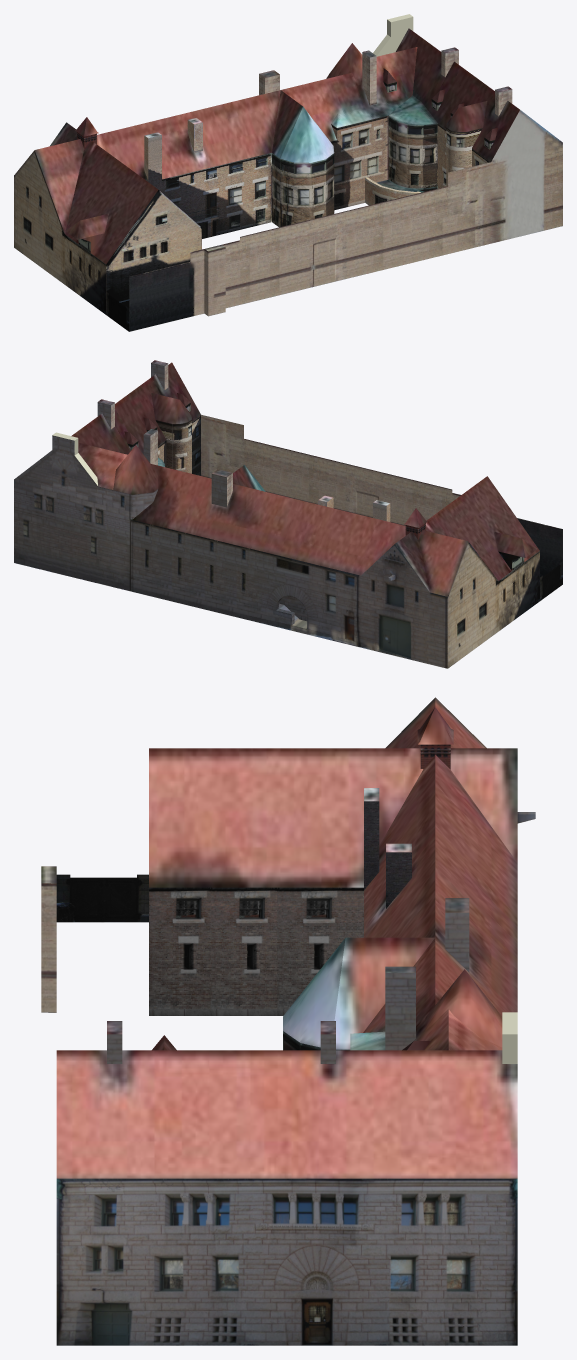
File: glessnerhouse.obj
The picture shows the model from 3 angles, top to bottom: view 1: azimuth 30°, elevation 25°; view 2: azimuth 150°, elevation 25°; view 3: azimuth 270°, elevation 25°; orthographic projection. The views are drawn at different scales.
Visible parts, largest first — view 1: Model; view 2: Model; view 3: Model.
Part boxes in pixels (x1,y1,x2,y2): Model: (14, 14, 562, 331); Model: (14, 362, 562, 668); Model: (41, 697, 535, 1345).
Size of the model in its own units: 2016 by 591 by 965.
Materials: 24 (23 with a texture image).
